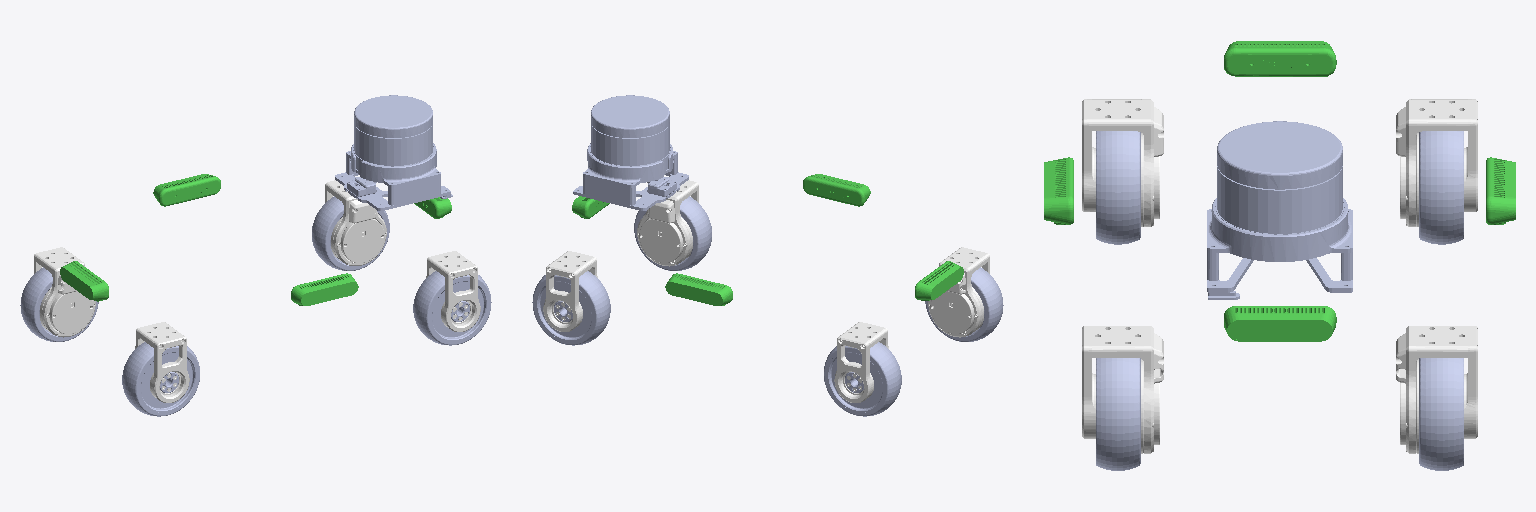
robot.urdf — amrdev:
<?xml version="1.0" encoding="utf-8"?>
<!-- This URDF was automatically created by SolidWorks to URDF Exporter! Originally created by [author] ([email redacted]) 
     Commit Version: 1.6.0-4-g7f85cfe  Build Version: 1.6.7995.38578
     For more information, please see http://wiki.ros.org/sw_urdf_exporter -->
<robot
  name="amrdev">
  <link
    name="base_link">
    <inertial>
      <origin
        xyz="0.00038742 0.00001509 0.00705516"
        rpy="0 0 0" />
      <mass
        value="6.80000000" />
      <inertia
        ixx="0.10435150"
        ixy="-0.00053458"
        ixz="-0.00005174"
        iyy="0.20783280"
        iyz="-0.00000378"
        izz="0.30185311" />
    </inertial>
    <visual>
      <origin
        xyz="0 0 0"
        rpy="0 0 0" />
      <geometry>
        <mesh
          filename="../meshes/base_link.STL" />
      </geometry>
      <material
        name="">
        <color
          rgba="0.537254901960784 0.537254901960784 0.537254901960784 1" />
      </material>
    </visual>
    <collision>
      <origin
        xyz="0 0 0"
        rpy="0 0 0" />
      <geometry>
        <mesh
          filename="../meshes/base_link_collision.STL" />
      </geometry>
    </collision>
  </link>
  <link
    name="lidar">
    <inertial>
      <origin
        xyz="-0.00417445 -0.00050692 -0.04893928"
        rpy="0 0 0" />
      <mass
        value="0.20000000" />
      <inertia
        ixx="0.00038466"
        ixy="0.00000527"
        ixz="-0.00001927"
        iyy="0.00025685"
        iyz="-0.00000253"
        izz="0.00055177" />
    </inertial>
    <visual>
      <origin
        xyz="0 0 0"
        rpy="0 0 0" />
      <geometry>
        <mesh
          filename="../meshes/lidar.STL" />
      </geometry>
      <material
        name="">
        <color
          rgba="0.792156862745098 0.819607843137255 0.933333333333333 1" />
      </material>
    </visual>
    <collision>
      <origin
        xyz="0 0 0"
        rpy="0 0 0" />
      <geometry>
        <mesh
          filename="../meshes/lidar_collision.STL" />
      </geometry>
    </collision>
  </link>
  <joint
    name="lidar_joint"
    type="fixed" dont_collapse="true">
    <origin
      xyz="0.203359408255241 0 0.117503005698433"
      rpy="0 0 0" />
    <parent
      link="base_link" />
    <child
      link="lidar" />
    <axis
      xyz="0 0 0" />
  </joint>
  <link
    name="fcam">
    <inertial>
      <origin
        xyz="-0.01244380 0.00001109 -0.00013613"
        rpy="0 0 0" />
      <mass
        value="0.08000000" />
      <inertia
        ixx="0.00005295"
        ixy="-0.0000001"
        ixz="-0.0000001"
        iyy="0.00000719"
        iyz="-0.0000001"
        izz="0.00005367" />
    </inertial>
    <visual>
      <origin
        xyz="0 0 0"
        rpy="0 0 0" />
      <geometry>
        <mesh
          filename="../meshes/fcam.STL" />
      </geometry>
      <material
        name="">
        <color
          rgba="0.388235294117647 0.858823529411765 0.388235294117647 1" />
      </material>
    </visual>
  </link>
  <joint
    name="fcam_joint"
    type="fixed" dont_collapse="true">
    <origin
      xyz="0.264999967519614 0 0.0176501419458824"
      rpy="0 0 0" />
    <parent
      link="base_link" />
    <child
      link="fcam" />
    <axis
      xyz="0 0 0" />
  </joint>
  <link
    name="lcam">
    <inertial>
      <origin
        xyz="-0.01244371 0.00001102 -0.00013614"
        rpy="0 0 0" />
      <mass
        value="0.08000000" />
      <inertia
        ixx="0.00005295"
        ixy="-0.0000001"
        ixz="-0.0000001"
        iyy="0.00000719"
        iyz="-0.0000001"
        izz="0.00005368" />
    </inertial>
    <visual>
      <origin
        xyz="0 0 0"
        rpy="0 0 0" />
      <geometry>
        <mesh
          filename="../meshes/lcam.STL" />
      </geometry>
      <material
        name="">
        <color
          rgba="0.388235294117647 0.858823529411765 0.388235294117647 1" />
      </material>
    </visual>
  </link>
  <joint
    name="lcam_joint"
    type="fixed" dont_collapse="true">
    <origin
      xyz="0 0.1891 0.017874122782277"
      rpy="0 0 1.5707963267949" />
    <parent
      link="base_link" />
    <child
      link="lcam" />
    <axis
      xyz="0 0 0" />
  </joint>
  <link
    name="rcam">
    <inertial>
      <origin
        xyz="-0.01244375 -0.00001110 0.00013615"
        rpy="0 0 0" />
      <mass
        value="0.08000000" />
      <inertia
        ixx="0.00005295"
        ixy="-0.0000001"
        ixz="-0.00000002"
        iyy="0.00000719"
        iyz="-0.0000001"
        izz="0.00005367" />
    </inertial>
    <visual>
      <origin
        xyz="0 0 0"
        rpy="0 0 0" />
      <geometry>
        <mesh
          filename="../meshes/rcam.STL" />
      </geometry>
      <material
        name="">
        <color
          rgba="0.388235294117647 0.858823529411765 0.388235294117647 1" />
      </material>
    </visual>
  </link>
  <joint
    name="rcam_joint"
    type="fixed" dont_collapse="true">
    <origin
      xyz="0 -0.1891 0.017874122782277"
      rpy="3.14159265358979 0 -1.5707963267949" />
    <parent
      link="base_link" />
    <child
      link="rcam" />
    <axis
      xyz="0 0 0" />
  </joint>
  <link
    name="bcam">
    <inertial>
      <origin
        xyz="-0.01244371 -0.00001107 -0.00008783"
        rpy="0 0 0" />
      <mass
        value="0.08000000" />
      <inertia
        ixx="0.00005295"
        ixy="-0.0000001"
        ixz="-0.0000001"
        iyy="0.00000719"
        iyz="-0.0000001"
        izz="0.00005368" />
    </inertial>
    <visual>
      <origin
        xyz="0 0 0"
        rpy="0 0 0" />
      <geometry>
        <mesh
          filename="../meshes/bcam.STL" />
      </geometry>
      <material
        name="">
        <color
          rgba="0.388235294117647 0.858823529411765 0.388235294117647 1" />
      </material>
    </visual>
  </link>
  <joint
    name="bcam_joint"
    type="fixed" dont_collapse="true">
    <origin
      xyz="-0.264999967519614 0 0.0176501419458824"
      rpy="3.14159265358979 0 3.14159265358979" />
    <parent
      link="base_link" />
    <child
      link="bcam" />
    <axis
      xyz="0 0 0" />
  </joint>
  <link
    name="fl">
    <inertial>
      <origin
        xyz="-0.00000841 -0.00711107 -0.08635696"
        rpy="0 0 0" />
      <mass
        value="0.40000000" />
      <inertia
        ixx="0.00038094"
        ixy="-0.0000001"
        ixz="0.00000003"
        iyy="0.00041106"
        iyz="-0.00001334"
        izz="0.00023197" />
    </inertial>
    <visual>
      <origin
        xyz="0 0 0"
        rpy="0 0 0" />
      <geometry>
        <mesh
          filename="../meshes/fl.STL" />
      </geometry>
      <material
        name="">
        <color
          rgba="1 1 1 1" />
      </material>
    </visual>
  </link>
  <joint
    name="fl_joint"
    type="continuous">
    <origin
      xyz="0.215 0.13 0.0234"
      rpy="0 0 0" />
    <parent
      link="base_link" />
    <child
      link="fl" />
    <axis
      xyz="0 0 -1" />
  </joint>
  <link
    name="flw">
    <inertial>
      <origin
        xyz="-0.00000317 0.00194461 0.00000000"
        rpy="0 0 0" />
      <mass
        value="0.30000000" />
      <inertia
        ixx="0.00030517"
        ixy="-0.0000001"
        ixz="-0.0000001"
        iyy="0.00054997"
        iyz="-0.0000001"
        izz="0.00030522" />
    </inertial>
    <visual>
      <origin
        xyz="0 0 0"
        rpy="0 0 0" />
      <geometry>
        <mesh
          filename="../meshes/flw.STL" />
      </geometry>
      <material
        name="">
        <color
          rgba="0.792156862745098 0.819607843137255 0.933333333333333 1" />
      </material>
    </visual>
    <collision>
      <origin xyz="0 0 0" rpy="-1.5708 0 0"/>
      <geometry>
        <cylinder radius="0.052" length="0.036"/>
      </geometry>
    </collision>     
  </link>
  <joint
    name="flw_joint"
    type="continuous">
    <origin
      xyz="0 0 -0.0959"
      rpy="0 0 0" />
    <parent
      link="fl" />
    <child
      link="flw" />
    <axis
      xyz="0 1 0" />
  </joint>
  <link
    name="fr">
    <inertial>
      <origin
        xyz="-0.00000833 0.00711078 -0.08635681"
        rpy="0 0 0" />
      <mass
        value="0.40000000" />
      <inertia
        ixx="0.00038094"
        ixy="0.00000010"
        ixz="0.00000003"
        iyy="0.00041106"
        iyz="0.00001334"
        izz="0.00023197" />
    </inertial>
    <visual>
      <origin
        xyz="0 0 0"
        rpy="0 0 0" />
      <geometry>
        <mesh
          filename="../meshes/fr.STL" />
      </geometry>
      <material
        name="">
        <color
          rgba="1 1 1 1" />
      </material>
    </visual>
  </link>
  <joint
    name="fr_joint"
    type="continuous">
    <origin
      xyz="0.215 -0.13 0.0234"
      rpy="0 0 0" />
    <parent
      link="base_link" />
    <child
      link="fr" />
    <axis
      xyz="0 0 -1" />
  </joint>
  <link
    name="frw">
    <inertial>
      <origin
        xyz="-0.00000317 -0.00194461 0.00000000"
        rpy="0 0 0" />
      <mass
        value="0.30000000" />
      <inertia
        ixx="0.00030518"
        ixy="-0.0000001"
        ixz="-0.0000001"
        iyy="0.00054998"
        iyz="-0.0000001"
        izz="0.00030522" />
    </inertial>
    <visual>
      <origin
        xyz="0 0 0"
        rpy="0 0 0" />
      <geometry>
        <mesh
          filename="../meshes/frw.STL" />
      </geometry>
      <material
        name="">
        <color
          rgba="0.792156862745098 0.819607843137255 0.933333333333333 1" />
      </material>
    </visual>
    <collision>
      <origin xyz="0 0 0" rpy="-1.5708 0 0"/>
      <geometry>
        <cylinder radius="0.052" length="0.036"/>
      </geometry>
    </collision>  
  </link>
  <joint
    name="frw_joint"
    type="continuous">
    <origin
      xyz="0 0 -0.0959"
      rpy="0 0 0" />
    <parent
      link="fr" />
    <child
      link="frw" />
    <axis
      xyz="0 1 0" />
  </joint>
  <link
    name="rl">
    <inertial>
      <origin
        xyz="0.00000824 -0.00711102 -0.08635683"
        rpy="0 0 0" />
      <mass
        value="0.40000000" />
      <inertia
        ixx="0.00038094"
        ixy="0.00000010"
        ixz="-0.00000003"
        iyy="0.00041106"
        iyz="-0.00001334"
        izz="0.00023197" />
    </inertial>
    <visual>
      <origin
        xyz="0 0 0"
        rpy="0 0 0" />
      <geometry>
        <mesh
          filename="../meshes/rl.STL" />
      </geometry>
      <material
        name="">
        <color
          rgba="1 1 1 1" />
      </material>
    </visual>
  </link>
  <joint
    name="rl_joint"
    type="continuous">
    <origin
      xyz="-0.215 0.13 0.0234"
      rpy="0 0 0" />
    <parent
      link="base_link" />
    <child
      link="rl" />
    <axis
      xyz="0 0 -1" />
  </joint>
  <link
    name="rlw">
    <inertial>
      <origin
        xyz="0.00000317 0.00194461 0.00000000"
        rpy="0 0 0" />
      <mass
        value="0.30000000" />
      <inertia
        ixx="0.00030517"
        ixy="-0.0000001"
        ixz="-0.0000001"
        iyy="0.00054997"
        iyz="-0.0000001"
        izz="0.00030522" />
    </inertial>
    <visual>
      <origin
        xyz="0 0 0"
        rpy="0 0 0" />
      <geometry>
        <mesh
          filename="../meshes/rlw.STL" />
      </geometry>
      <material
        name="">
        <color
          rgba="0.792156862745098 0.819607843137255 0.933333333333333 1" />
      </material>
    </visual>
    <collision>
      <origin xyz="0 0 0" rpy="-1.5708 0 0"/>
      <geometry>
        <cylinder radius="0.052" length="0.036"/>
      </geometry>
    </collision>  
  </link>
  <joint
    name="rlw_joint"
    type="continuous">
    <origin
      xyz="0 0 -0.0958999999999999"
      rpy="0 0 0" />
    <parent
      link="rl" />
    <child
      link="rlw" />
    <axis
      xyz="0 1 0" />
  </joint>
  <link
    name="rr">
    <inertial>
      <origin
        xyz="0.00000834 0.00711083 -0.08635698"
        rpy="0 0 0" />
      <mass
        value="0.40000000" />
      <inertia
        ixx="0.00038094"
        ixy="-0.0000001"
        ixz="-0.0000001"
        iyy="0.00041106"
        iyz="0.00001334"
        izz="0.00023197" />
    </inertial>
    <visual>
      <origin
        xyz="0 0 0"
        rpy="0 0 0" />
      <geometry>
        <mesh
          filename="../meshes/rr.STL" />
      </geometry>
      <material
        name="">
        <color
          rgba="1 1 1 1" />
      </material>
    </visual>
  </link>
  <joint
    name="rr_joint"
    type="continuous">
    <origin
      xyz="-0.215 -0.13 0.0234"
      rpy="0 0 0" />
    <parent
      link="base_link" />
    <child
      link="rr" />
    <axis
      xyz="0 0 -1" />
  </joint>
  <link
    name="rrw">
    <inertial>
      <origin
        xyz="0.00000317 -0.00194461 0.00000000"
        rpy="0 0 0" />
      <mass
        value="0.30000000" />
      <inertia
        ixx="0.00030518"
        ixy="-0.0000001"
        ixz="-0.0000001"
        iyy="0.00054998"
        iyz="-0.0000001"
        izz="0.00030522" />
    </inertial>
    <visual>
      <origin
        xyz="0 0 0"
        rpy="0 0 0" />
      <geometry>
        <mesh
          filename="../meshes/rrw.STL" />
      </geometry>
      <material
        name="">
        <color
          rgba="0.792156862745098 0.819607843137255 0.933333333333333 1" />
      </material>
    </visual>
    <collision>
      <origin xyz="0 0 0" rpy="-1.5708 0 0"/>
      <geometry>
        <cylinder radius="0.052" length="0.036"/>
      </geometry>
    </collision>  
  </link>
  <joint
    name="rrw_joint"
    type="continuous">
    <origin
      xyz="0 0 -0.0959"
      rpy="0 0 0" />
    <parent
      link="rr" />
    <child
      link="rrw" />
    <axis
      xyz="0 1 0" />
  </joint>
</robot>

--- Facts derived from the render (not from the file) ---
Views: 3 orthographic renders of the robot side by side, from view 1: azimuth 30°, elevation 25°; view 2: azimuth 150°, elevation 25°; view 3: azimuth 270°, elevation 25°.
Model amrdev with 14 links and 13 joints (8 continuous, 5 fixed), rooted at base_link, posed every joint at zero.
Links seen in each view (by area): view 1: lidar, fl, frw, rrw, rl, rr, fr, flw, rlw, rcam, lcam, bcam; view 2: lidar, fr, flw, rlw, rr, rl, fl, frw, rrw, lcam, rcam, bcam (+1 smaller); view 3: lidar, rl, rr, fl, fr, rlw, rrw, flw, frw, fcam, bcam, lcam (+1 smaller).
Link boxes in pixels (box(x1,y1,x2,y2)): lidar: box(335, 95, 452, 210); fl: box(325, 180, 386, 265); frw: box(413, 271, 491, 345); rrw: box(122, 342, 199, 416); rl: box(34, 247, 95, 337); rr: box(135, 322, 189, 402); fr: box(426, 251, 480, 331); flw: box(312, 196, 389, 270); rlw: box(20, 267, 98, 341); rcam: box(291, 273, 358, 305); lcam: box(153, 174, 220, 206); bcam: box(60, 261, 108, 301); lidar: box(573, 95, 688, 210); fr: box(637, 180, 698, 266); flw: box(532, 271, 610, 345); rlw: box(824, 342, 901, 416); rr: box(928, 247, 989, 337); rl: box(834, 322, 888, 402); fl: box(543, 251, 597, 331); frw: box(634, 196, 711, 270); rrw: box(925, 267, 1003, 341); lcam: box(665, 273, 732, 305); rcam: box(803, 174, 870, 206); bcam: box(915, 261, 963, 300); lidar: box(1207, 121, 1352, 299); rl: box(1396, 99, 1477, 226); rr: box(1082, 99, 1163, 226); fl: box(1396, 326, 1477, 453); fr: box(1082, 326, 1163, 453); rlw: box(1419, 131, 1463, 244); rrw: box(1096, 131, 1140, 244); flw: box(1419, 358, 1463, 470); frw: box(1096, 358, 1140, 470); fcam: box(1224, 306, 1336, 341); bcam: box(1224, 41, 1336, 76); lcam: box(1486, 157, 1515, 224).
Size in the robot's own frame: 0.5341 by 0.3782 by 0.2762 metres.
Meshes: 14 distinct files referenced, 13 mesh visuals loaded (13 binary STL); not drawn: 1 (reference not matched to a file when rendering).
